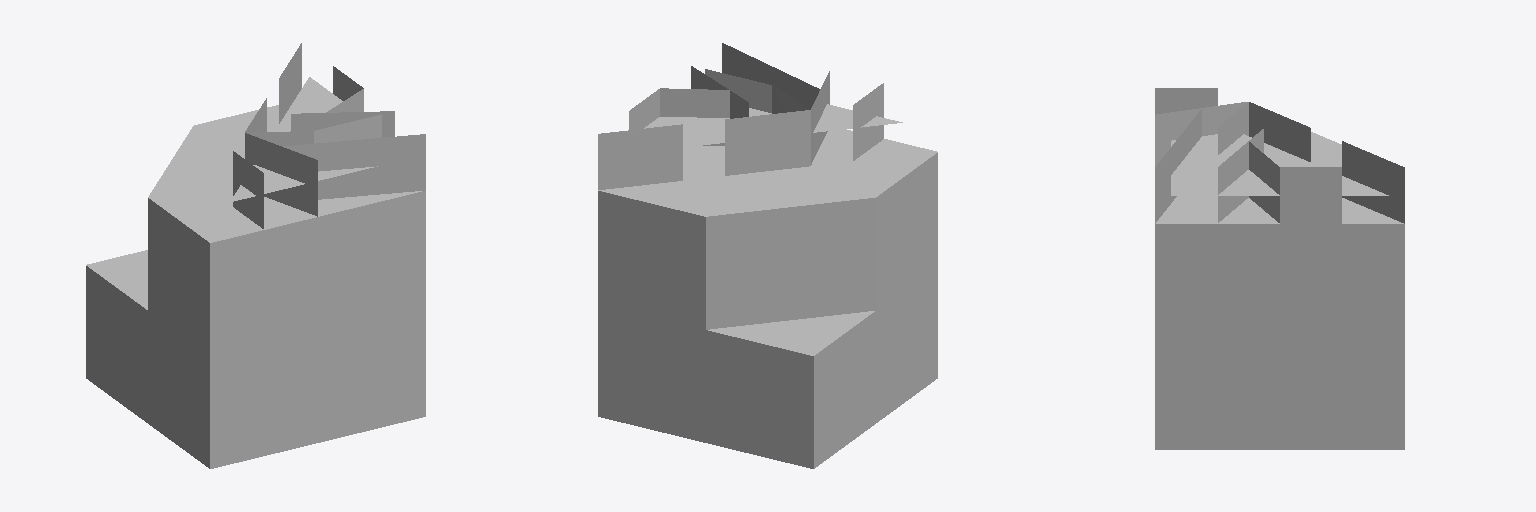
Rendered from blushrock_21u.obj.
3 renders of one model, left to right at view 1: azimuth 30°, elevation 25°; view 2: azimuth 150°, elevation 25°; view 3: azimuth 270°, elevation 25°, orthographic.
Size of the model in its own units: 1 by 1.25 by 1.